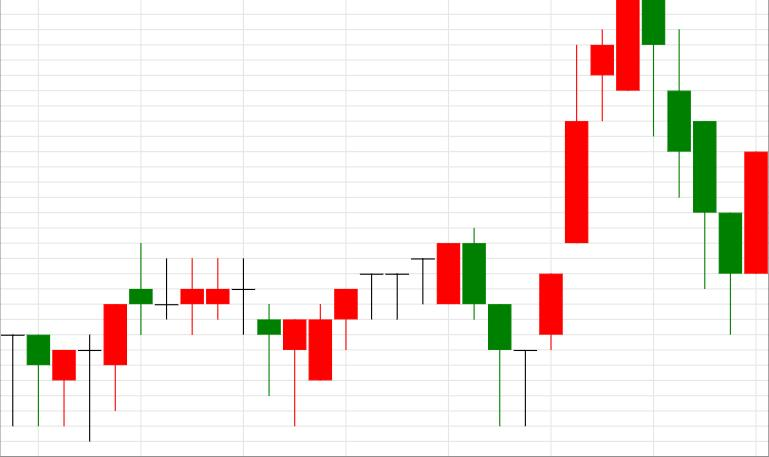hanging_man_fall: (514, 0, 664, 428)
